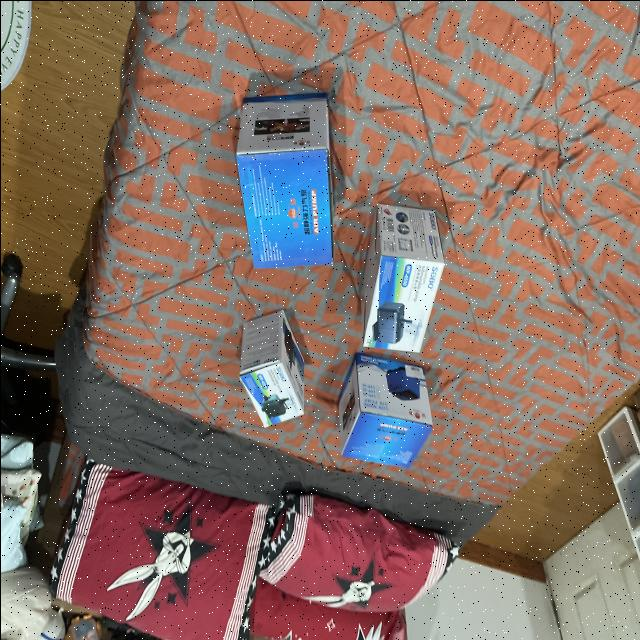SOBO_WP_4200: (350, 196, 448, 354), (230, 303, 308, 427)
YAMANO_LPP_20: (223, 86, 340, 272), (330, 349, 436, 476)
